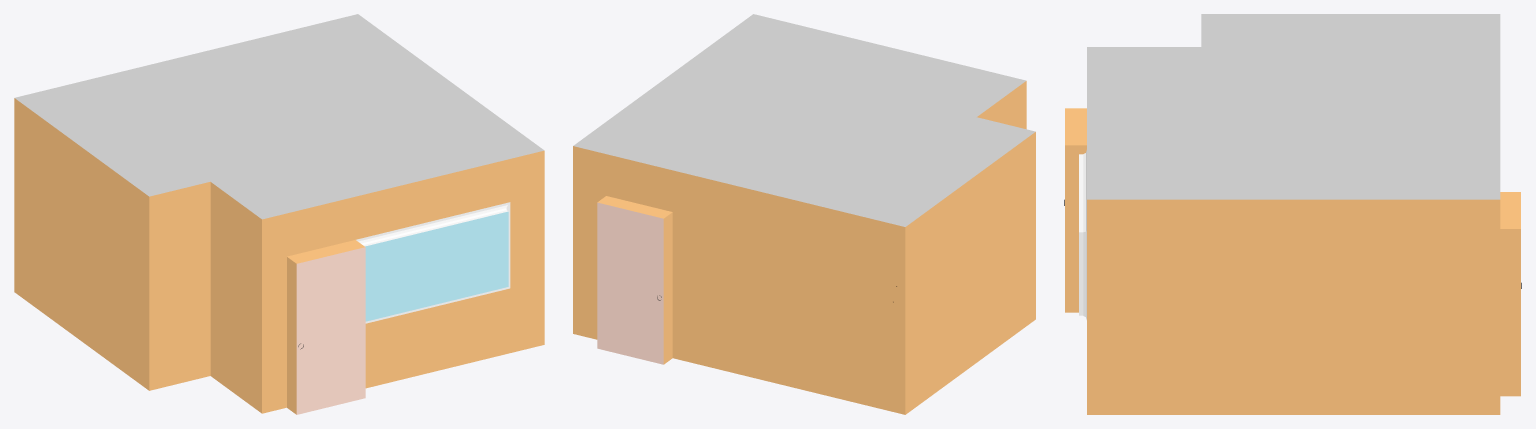
Rendered from level.glb.
3 views of the same model, side by side, from view 1: azimuth 30°, elevation 25°; view 2: azimuth 150°, elevation 25°; view 3: azimuth 270°, elevation 25° (orthographic). The views are drawn at different scales.
Visible parts, largest first — view 1: Room-col; view 2: Room-col; view 3: Room-col.
Part boxes in pixels (<box>): Room-col: <box>14,14,544,414</box>; Room-col: <box>573,14,1035,414</box>; Room-col: <box>1065,14,1520,414</box>.
Bounding box in the file's own units: 75 × 40.5 × 77.99.
13 materials, 13 textured.
